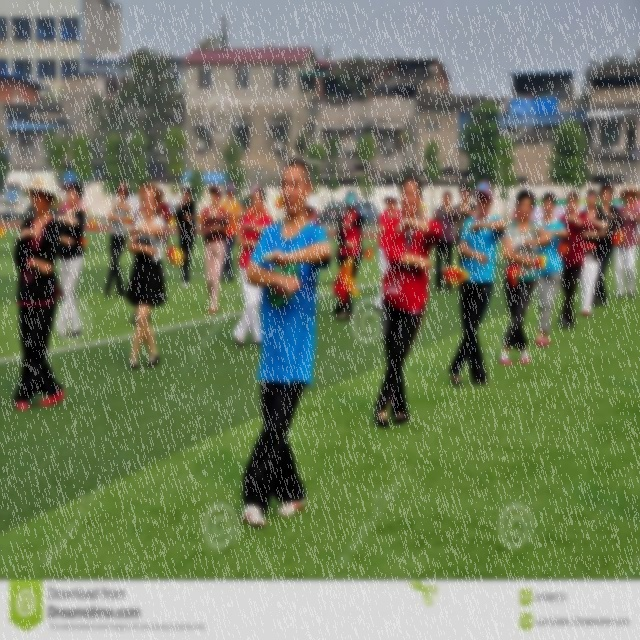pessoa: (234, 154, 334, 536), (370, 170, 446, 436), (12, 172, 66, 412), (447, 180, 506, 388), (498, 185, 556, 368), (124, 184, 166, 370), (232, 186, 274, 350), (53, 178, 89, 344), (532, 191, 570, 348), (328, 184, 368, 326), (558, 190, 590, 329), (200, 182, 232, 316), (592, 182, 624, 306), (578, 186, 608, 318), (102, 178, 132, 300), (428, 186, 460, 297), (610, 183, 640, 301), (374, 190, 401, 312), (174, 179, 200, 292), (218, 178, 244, 284), (455, 183, 478, 269), (147, 182, 167, 276), (58, 180, 88, 216), (130, 181, 150, 227), (244, 184, 269, 218), (305, 194, 323, 228)
